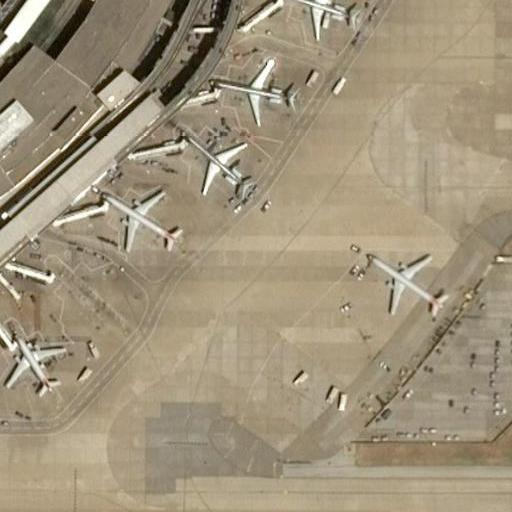Aircraft: (362, 242, 455, 318), (214, 58, 301, 119), (103, 190, 182, 250), (0, 331, 64, 398), (188, 135, 257, 194), (278, 0, 362, 34)
